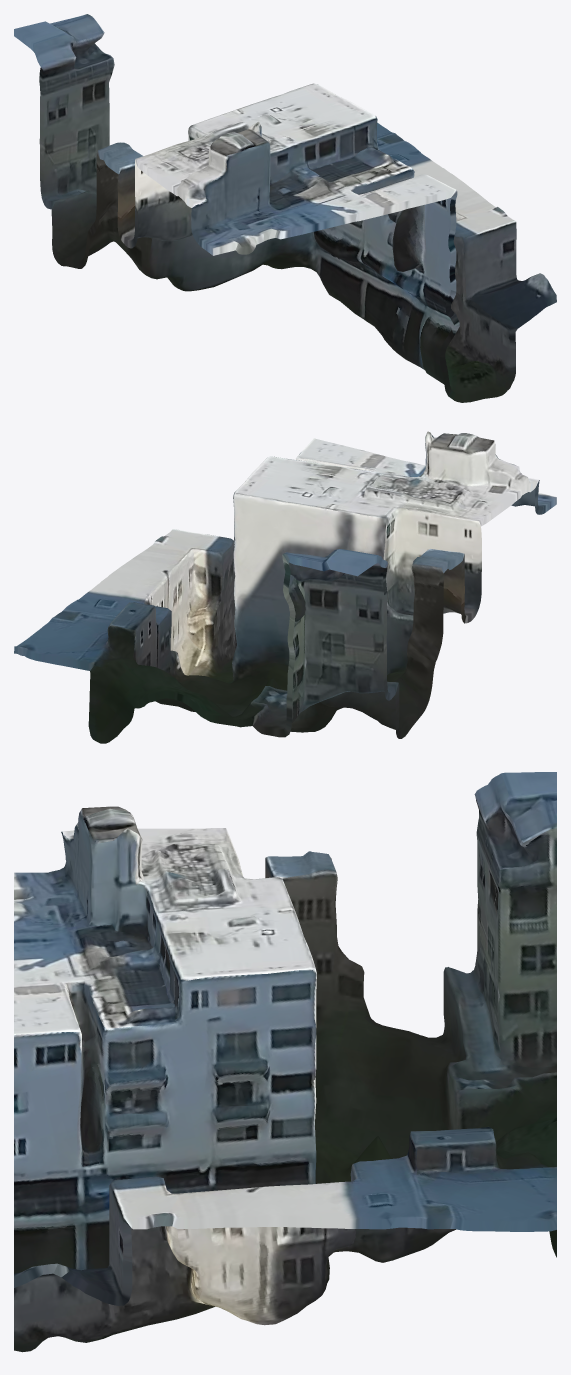
Rendered from z20-167722-405197-h0-yup-uvflip-v3-world.glb.
3 views of the same model, one above another, from view 1: azimuth 30°, elevation 25°; view 2: azimuth 150°, elevation 25°; view 3: azimuth 270°, elevation 25° (orthographic). The views are drawn at different scales.
Size of the model in its own units: 30.2 by 24.6 by 30.32.
Materials: 1 (1 with a texture image).
